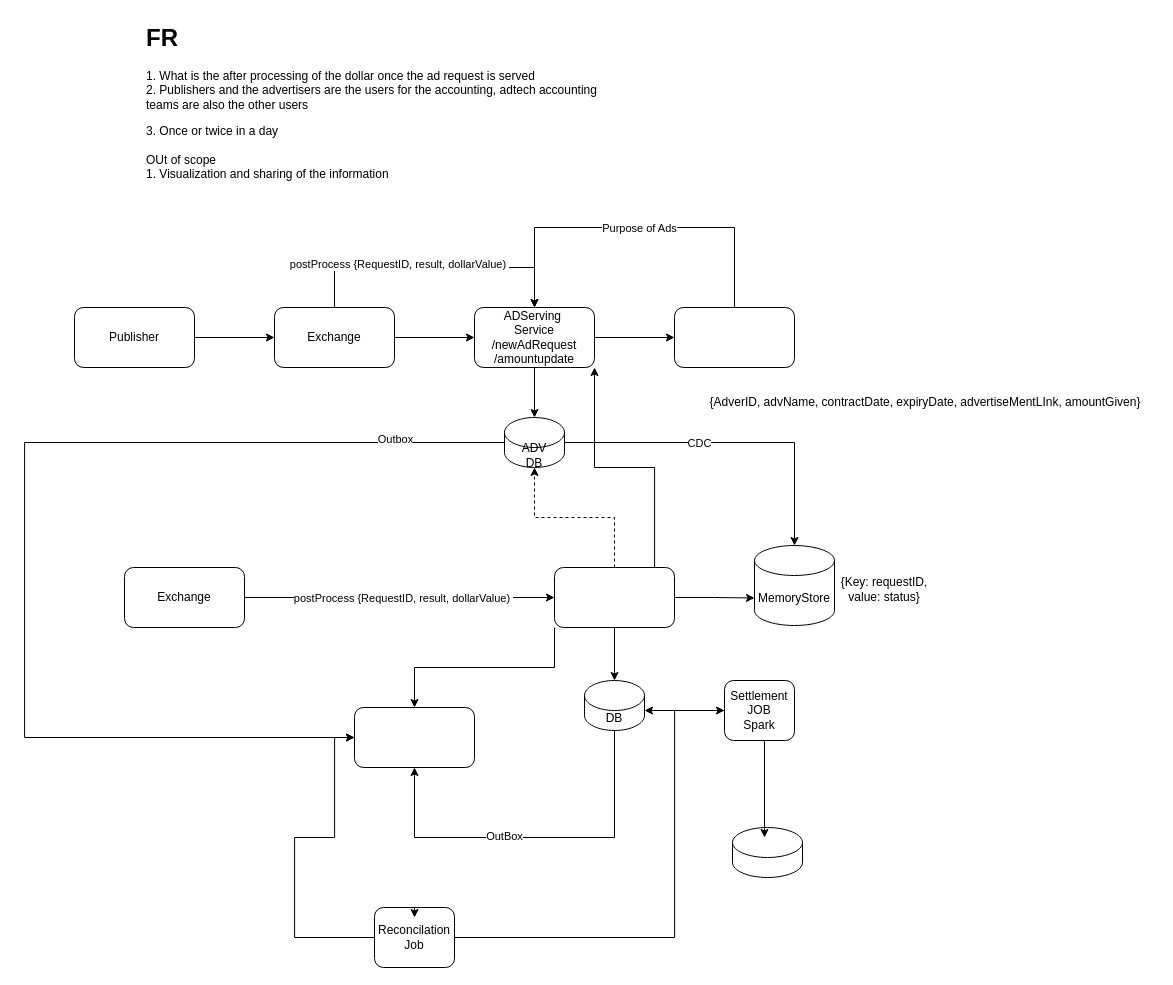
Some shapes in this 1173 by 985 pixel diagram are drawn without their labels. Each missing label, with the centre of its shape:
Advertisers: the point at 734,337
BookKeepingServic: the point at 614,597
Ledger Service: the point at 414,737
Settlemt DB: the point at 767,852
